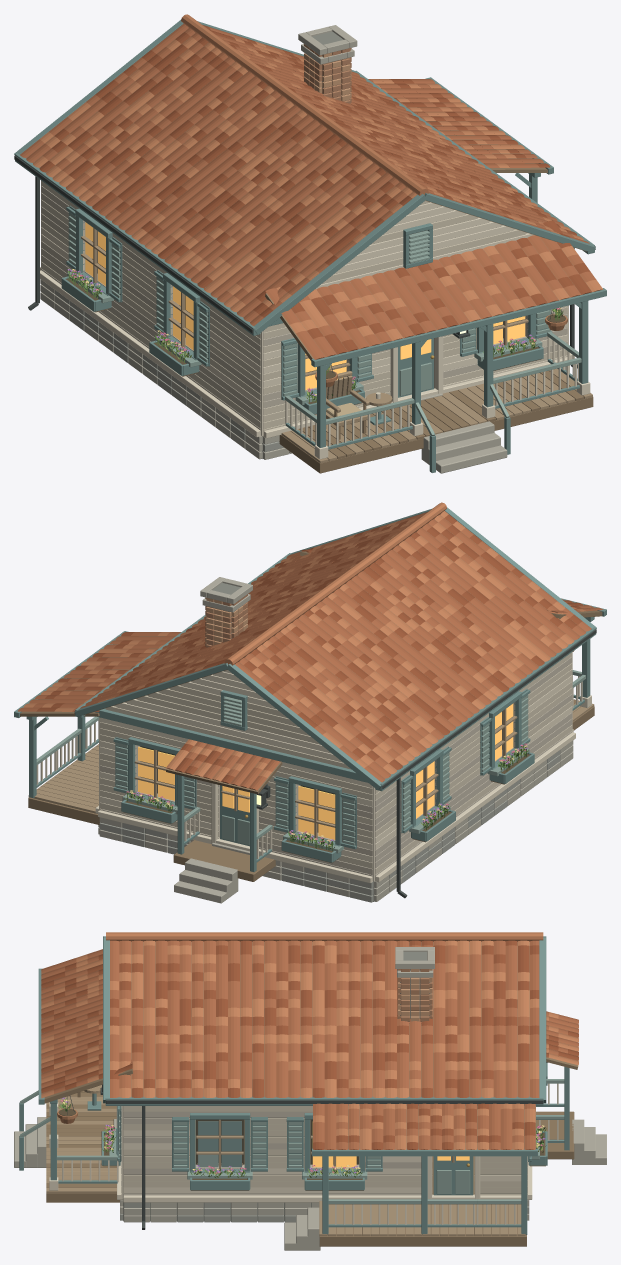
File: SM_MiaHouse_Blockout.fbx
3 views of the same model, one above another, from view 1: azimuth 30°, elevation 25°; view 2: azimuth 150°, elevation 25°; view 3: azimuth 270°, elevation 25° (orthographic). The views are drawn at different scales.
Parts seen in each view (by area): view 1: EXPORT_TerracottaCourses_-1, EXPORT_PorchRoofTiles, EXPORT_TerracottaCourses_1, EXPORT_VerandaRoofTiles, EXPORT_PorchBase, EXPORT_PorchFascia, EXPORT_GableFascia, EXPORT_SillBeam_Left, EXPORT_RoofDeck_-1, EXPORT_EaveFascia, EXPORT_GableFascia.002, EXPORT_GableBoard_Front.003 (+22 smaller); view 2: EXPORT_TerracottaCourses_-1, EXPORT_TerracottaCourses_1, EXPORT_VerandaRoofTiles, EXPORT_BackCanopyTiles, EXPORT_EaveBeam_Back, EXPORT_SillBeam_Back, EXPORT_BackLanding, EXPORT_GableFascia.001, EXPORT_SillBeam_Left, EXPORT_GableBoard_Back.001, EXPORT_EaveFascia, EXPORT_RoofDeck_-1 (+28 smaller); view 3: EXPORT_TerracottaCourses_1, EXPORT_VerandaRoofTiles, EXPORT_PorchRoofTiles, EXPORT_VerandaBase, EXPORT_RoofDeck_1, EXPORT_SillBeam_Right, EXPORT_EaveFascia.001, EXPORT_Gutter.001, EXPORT_Clapboard_Right_01, EXPORT_VerandaFascia, EXPORT_BackCanopyTiles, EXPORT_GableFascia.003 (+27 smaller).
Boxes of the visible parts, left/top/right/bottom form: EXPORT_TerracottaCourses_-1: left=20, top=24, right=417, bottom=325; EXPORT_PorchRoofTiles: left=265, top=220, right=603, bottom=359; EXPORT_TerracottaCourses_1: left=203, top=25, right=589, bottom=243; EXPORT_VerandaRoofTiles: left=368, top=79, right=550, bottom=167; EXPORT_PorchBase: left=279, top=397, right=593, bottom=473; EXPORT_PorchFascia: left=311, top=288, right=606, bottom=367; EXPORT_GableFascia: left=254, top=194, right=426, bottom=334; EXPORT_SillBeam_Left: left=40, top=270, right=261, bottom=437; EXPORT_RoofDeck_-1: left=29, top=28, right=409, bottom=320; EXPORT_EaveFascia: left=15, top=153, right=260, bottom=335; EXPORT_GableFascia.002: left=424, top=193, right=595, bottom=252; EXPORT_GableBoard_Front.003: left=321, top=229, right=525, bottom=284; EXPORT_TerracottaCourses_-1: left=235, top=511, right=591, bottom=782; EXPORT_TerracottaCourses_1: left=80, top=512, right=427, bottom=708; EXPORT_VerandaRoofTiles: left=18, top=632, right=181, bottom=711; EXPORT_BackCanopyTiles: left=166, top=739, right=280, bottom=790; EXPORT_EaveBeam_Back: left=95, top=708, right=367, bottom=782; EXPORT_SillBeam_Back: left=98, top=810, right=372, bottom=883; EXPORT_BackLanding: left=173, top=840, right=275, bottom=881; EXPORT_GableFascia.001: left=226, top=664, right=381, bottom=790; EXPORT_SillBeam_Left: left=375, top=732, right=575, bottom=882; EXPORT_GableBoard_Back.001: left=116, top=702, right=342, bottom=762; EXPORT_EaveFascia: left=375, top=627, right=596, bottom=791; EXPORT_RoofDeck_-1: left=241, top=516, right=582, bottom=775; EXPORT_TerracottaCourses_1: left=110, top=940, right=539, bottom=1097; EXPORT_VerandaRoofTiles: left=313, top=1103, right=535, bottom=1149; EXPORT_PorchRoofTiles: left=41, top=949, right=132, bottom=1098; EXPORT_VerandaBase: left=319, top=1204, right=526, bottom=1246; EXPORT_RoofDeck_1: left=131, top=942, right=529, bottom=1095; EXPORT_SillBeam_Right: left=123, top=1194, right=521, bottom=1202; EXPORT_EaveFascia.001: left=105, top=1096, right=543, bottom=1105; EXPORT_Gutter.001: left=106, top=1100, right=543, bottom=1103; EXPORT_Clapboard_Right_01: left=123, top=1187, right=432, bottom=1193; EXPORT_VerandaFascia: left=311, top=1148, right=537, bottom=1156; EXPORT_BackCanopyTiles: left=546, top=1011, right=578, bottom=1065; EXPORT_GableFascia.003: left=539, top=937, right=546, bottom=1103.
Size of the model in its own units: 1105 by 1474 by 631.
